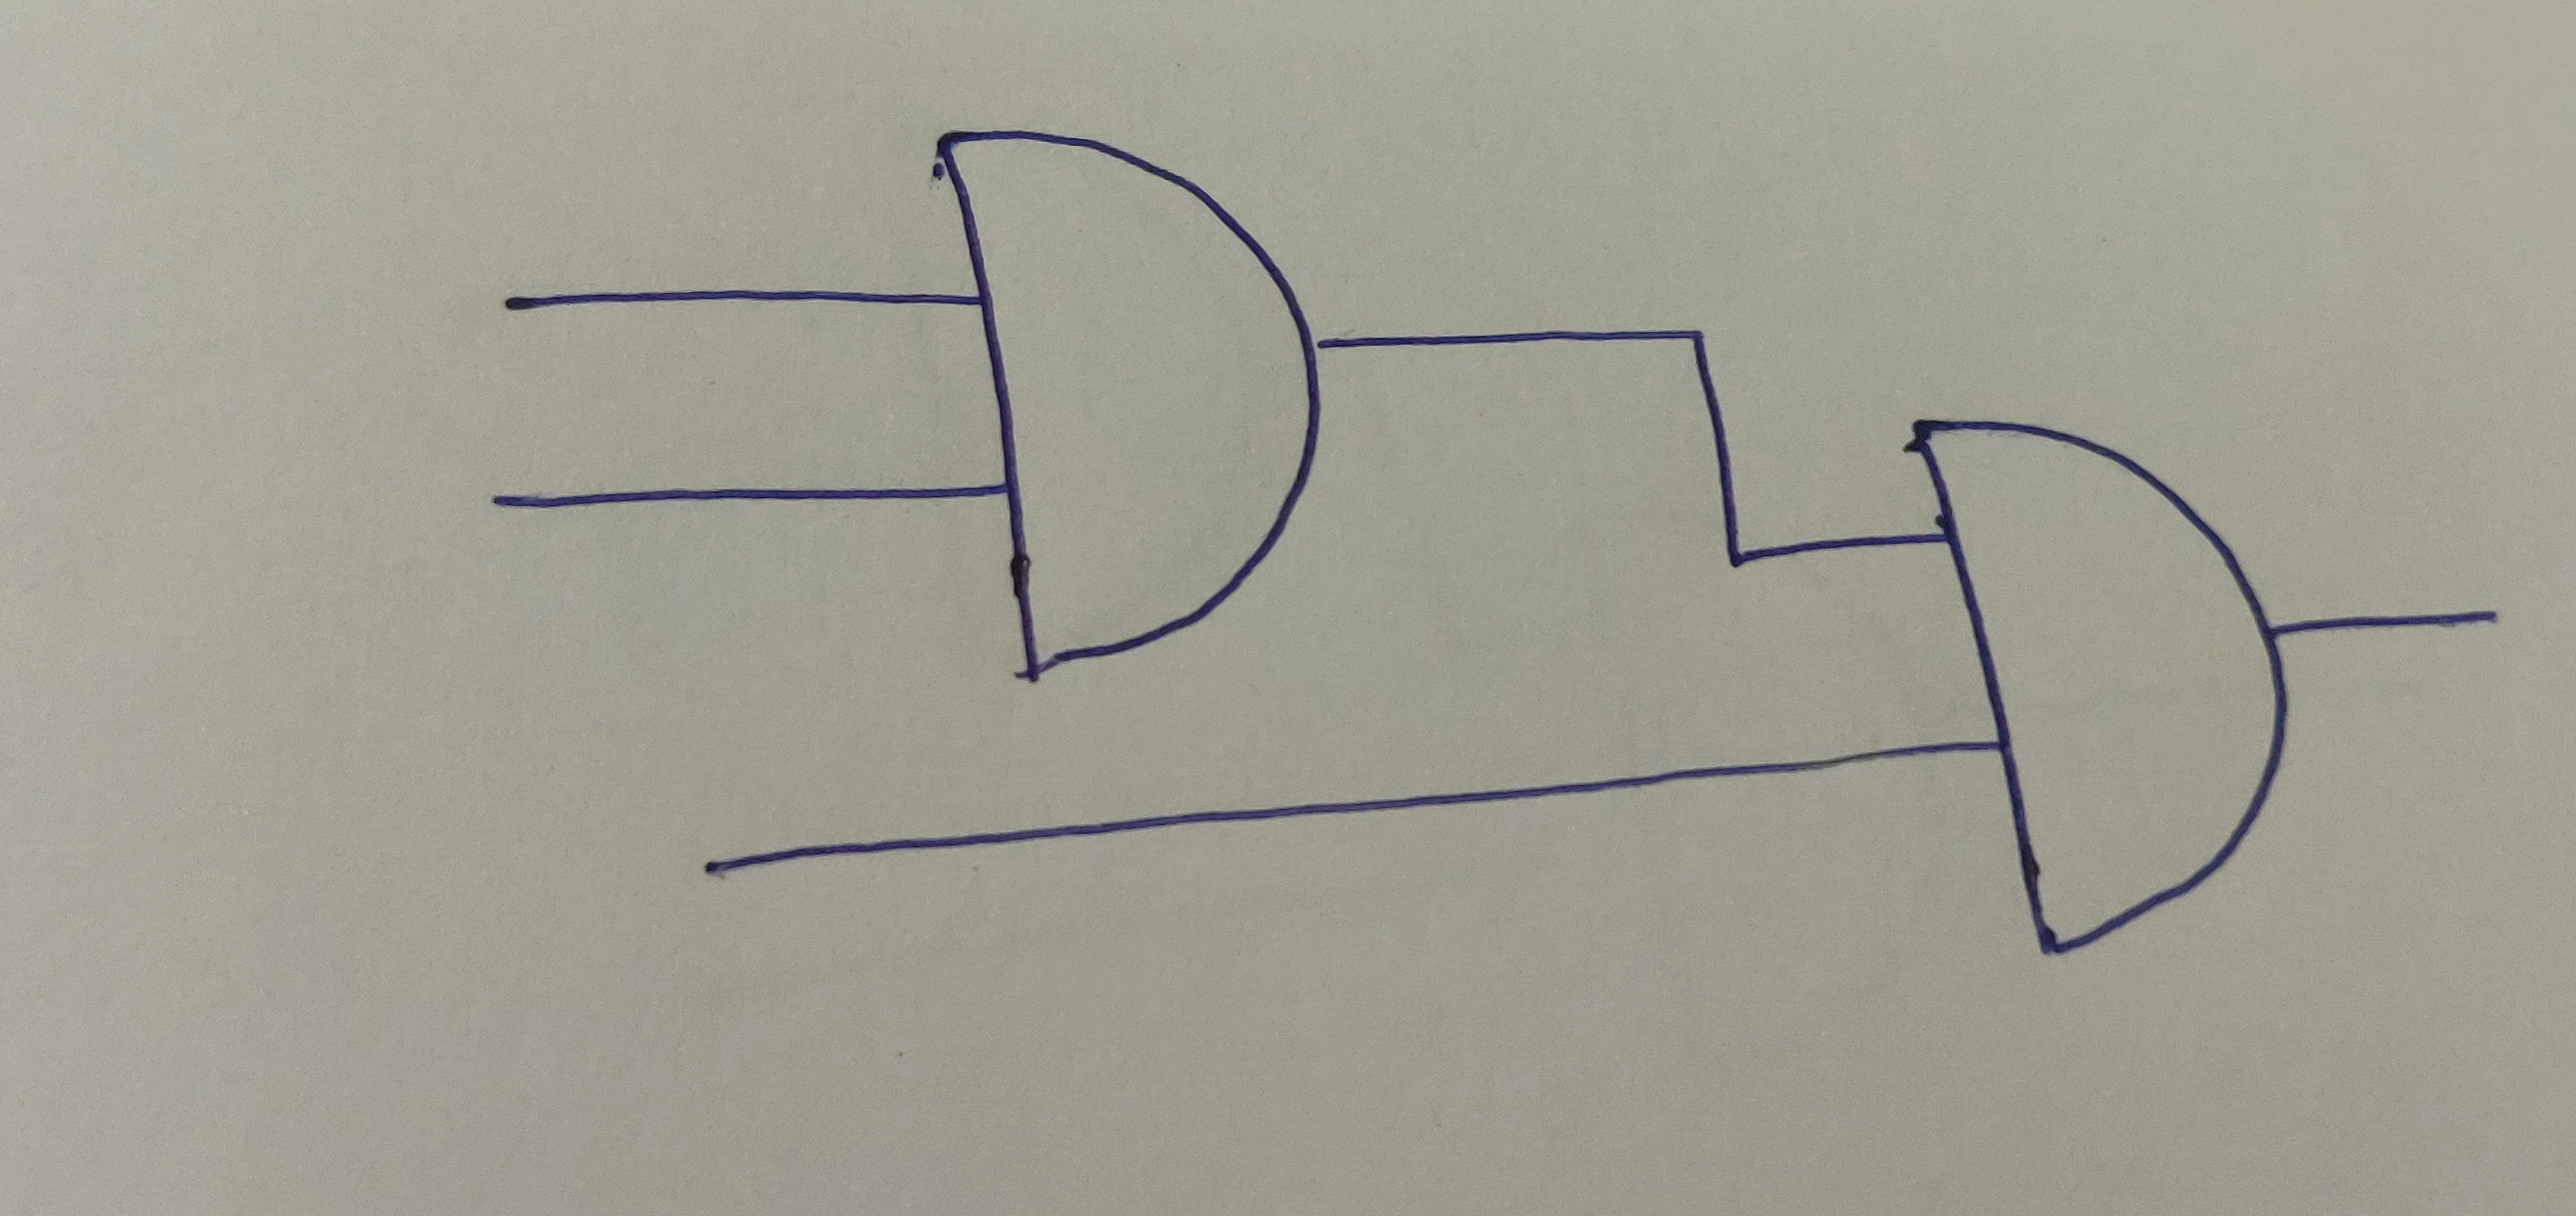and: (938, 128, 1324, 680), (1904, 417, 2292, 955)
